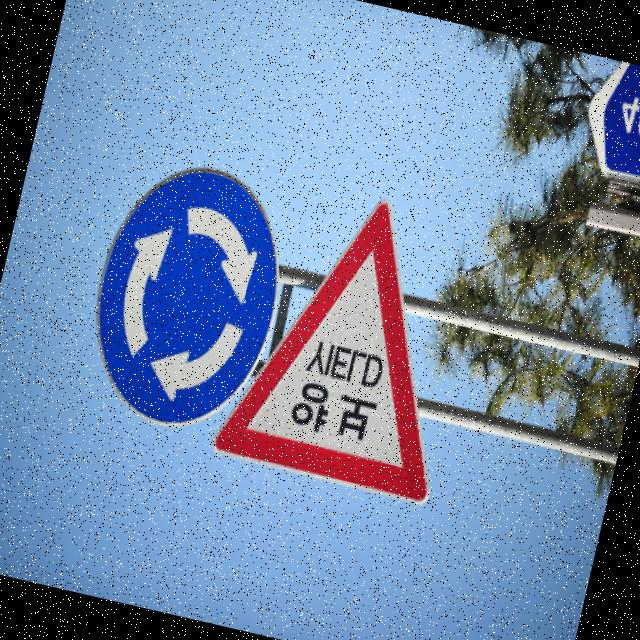round_about: (72, 146, 302, 444)
